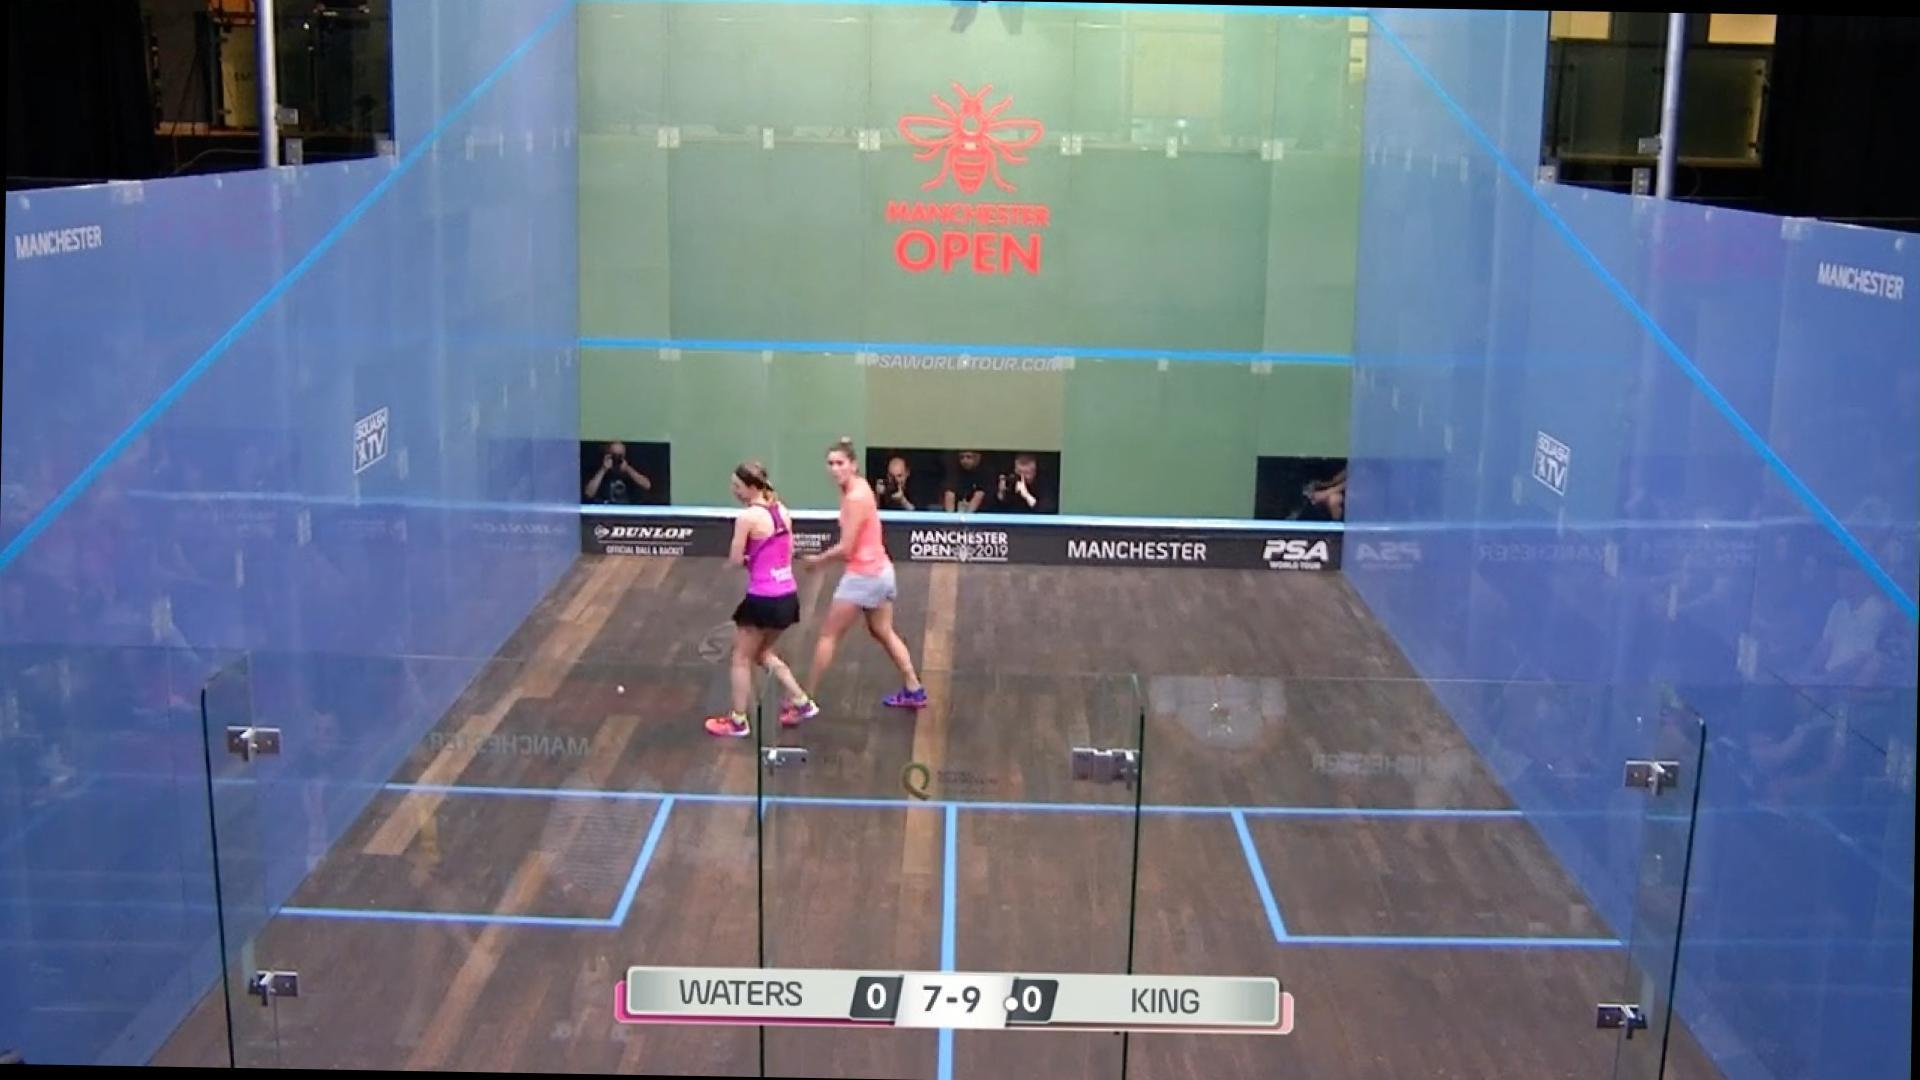Squash-Ball: (592, 658, 647, 724)
